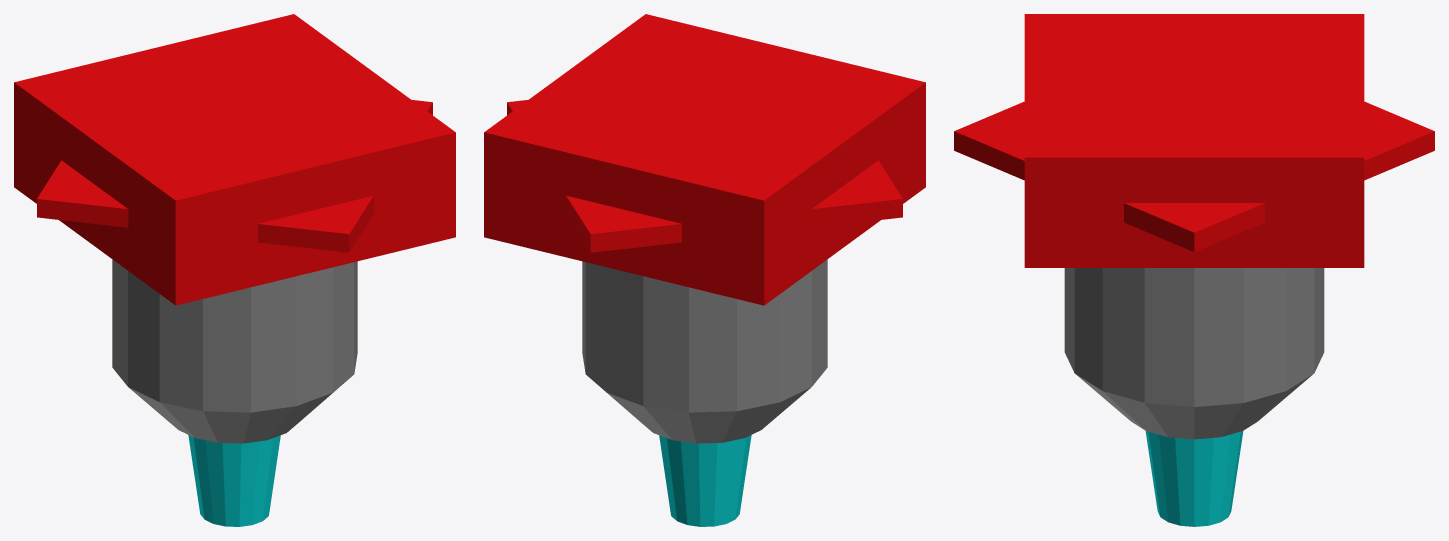
Rendered from BeybladeBasis.fbx.
3 renders of one model, left to right at view 1: azimuth 30°, elevation 25°; view 2: azimuth 150°, elevation 25°; view 3: azimuth 270°, elevation 25°, orthographic. The views are drawn at different scales.
Parts seen in each view (by area): view 1: Head, Body, Leg; view 2: Head, Body, Leg; view 3: Head, Body, Leg.
Part boxes in pixels (<box>): Head: <box>14,14,455,305</box>; Body: <box>112,259,357,443</box>; Leg: <box>188,435,280,526</box>; Head: <box>484,14,925,305</box>; Body: <box>582,259,827,443</box>; Leg: <box>659,435,751,526</box>; Head: <box>954,14,1434,267</box>; Body: <box>1064,268,1324,439</box>; Leg: <box>1145,431,1243,526</box>.
Size of the model in its own units: 83.2 by 81.28 by 83.2.
